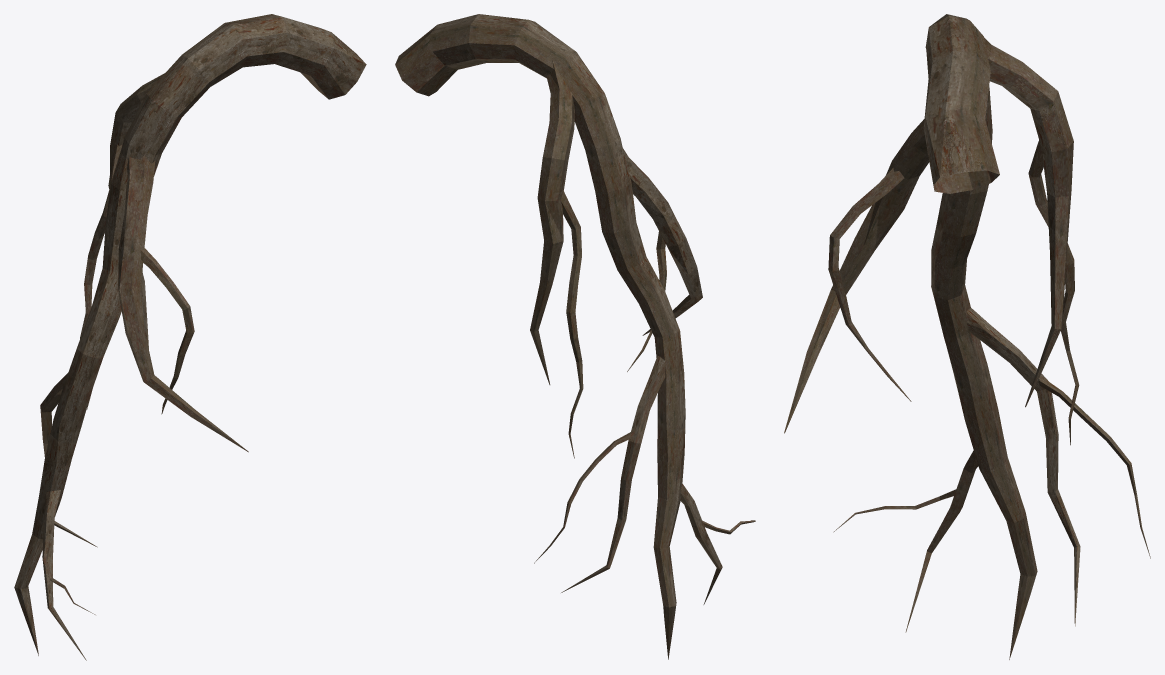
File: House63.fbx
3 renders of one model, left to right at view 1: azimuth 30°, elevation 25°; view 2: azimuth 150°, elevation 25°; view 3: azimuth 270°, elevation 25°, orthographic. The views are drawn at different scales.
Parts seen in each view (by area): view 1: AT_BGAgo_TrI07.mo; view 2: AT_BGAgo_TrI07.mo; view 3: AT_BGAgo_TrI07.mo.
Boxes of the visible parts, box(x1,y1,x2,y2) form: AT_BGAgo_TrI07.mo: box(14, 14, 366, 660); AT_BGAgo_TrI07.mo: box(395, 14, 755, 659); AT_BGAgo_TrI07.mo: box(784, 14, 1150, 659).
Bounding box in the file's own units: 2492 × 4420 × 1968.
